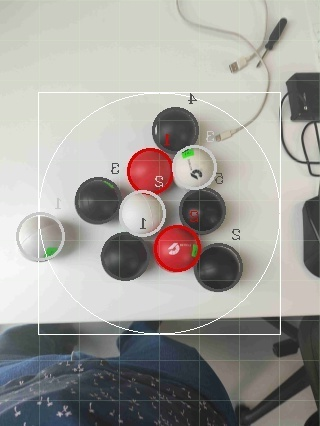Pelota blanca: (175, 0, 273, 75), (279, 71, 320, 174), (15, 212, 68, 264), (101, 230, 151, 283), (74, 174, 124, 224), (151, 105, 201, 152), (119, 190, 167, 238), (173, 142, 220, 190)
Pelota negra: (0, 337, 238, 425), (194, 241, 244, 294), (101, 230, 151, 283), (74, 174, 124, 224), (178, 188, 228, 235)
Pelota roja: (154, 222, 204, 272), (127, 145, 175, 195)
